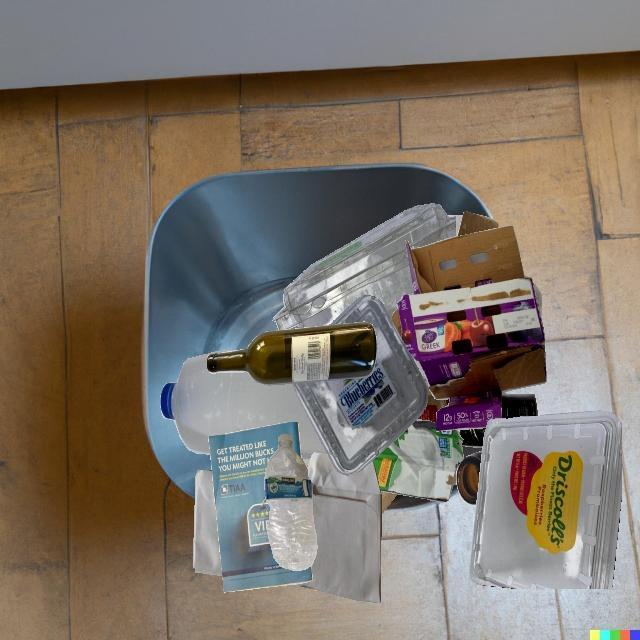cardboard: (391, 226, 547, 431), (372, 419, 463, 502), (457, 211, 499, 236)
glass: (207, 322, 377, 385), (456, 449, 482, 505), (416, 385, 449, 423), (533, 284, 542, 317), (303, 460, 310, 467)
paper: (208, 421, 312, 592), (282, 452, 381, 603), (193, 469, 222, 576), (412, 357, 427, 381), (447, 215, 463, 236)
plastic: (469, 410, 622, 589), (292, 295, 428, 475), (272, 203, 456, 330), (160, 351, 328, 461), (306, 467, 381, 588), (264, 433, 317, 571), (449, 400, 532, 430), (502, 393, 538, 415)
